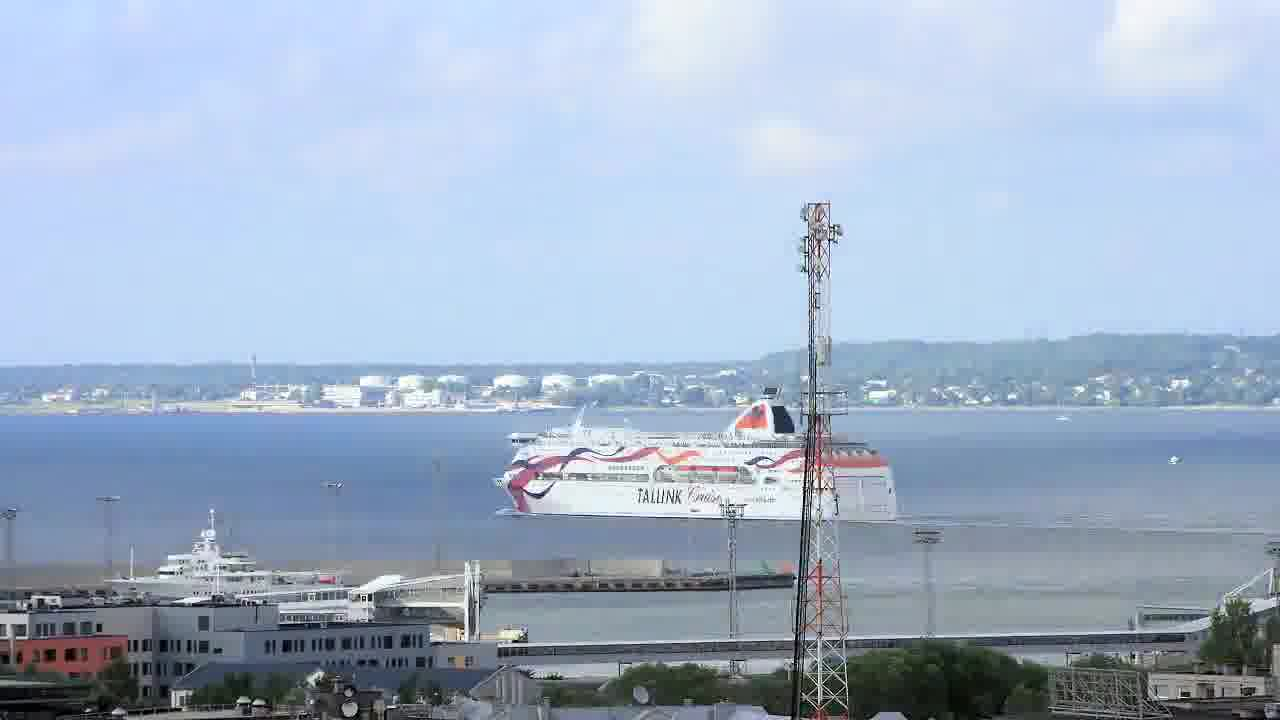type-3: (482, 366, 905, 530), (96, 508, 381, 605)
